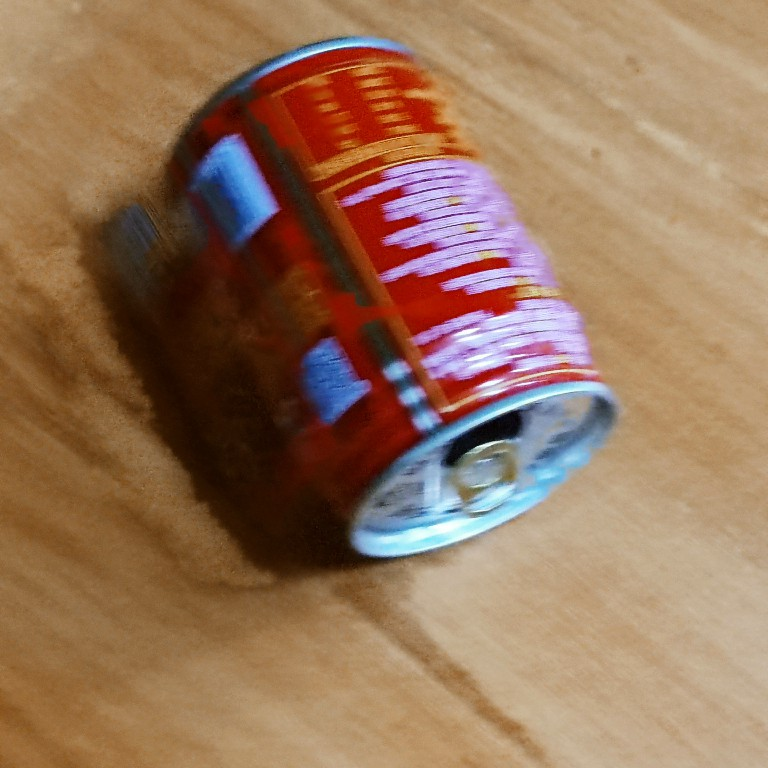can: (157, 35, 619, 559)
